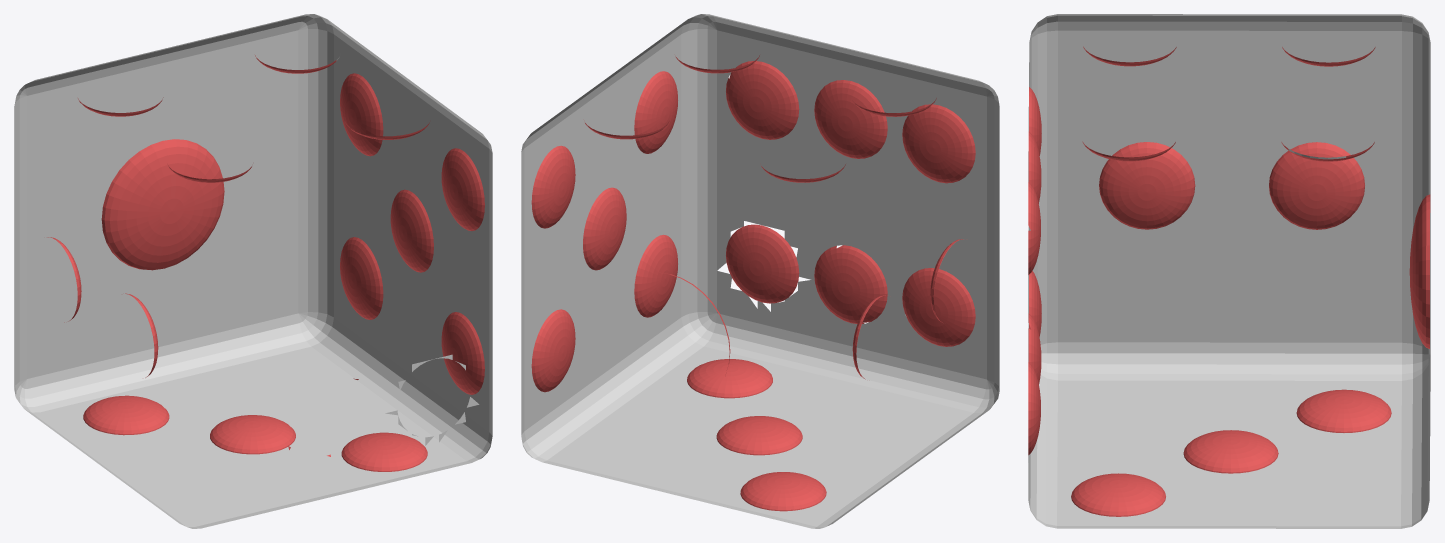
File: dice.glb
3 renders of one model, left to right at view 1: azimuth 30°, elevation 25°; view 2: azimuth 150°, elevation 25°; view 3: azimuth 270°, elevation 25°, orthographic. The views are drawn at different scales.
Parts seen in each view (by area): view 1: Dice; view 2: Dice; view 3: Dice.
Boxes of the visible parts, x1,y1,x2,y2 form: Dice: [14, 14, 492, 528]; Dice: [521, 14, 999, 528]; Dice: [1028, 14, 1430, 528].
Size of the model in its own units: 100 by 100 by 100.
